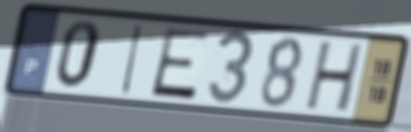0: (52, 17, 102, 91)
3: (206, 26, 256, 110)
8: (258, 35, 307, 110)
E: (147, 25, 213, 103)
H: (301, 39, 367, 116)
I: (118, 21, 147, 98)
